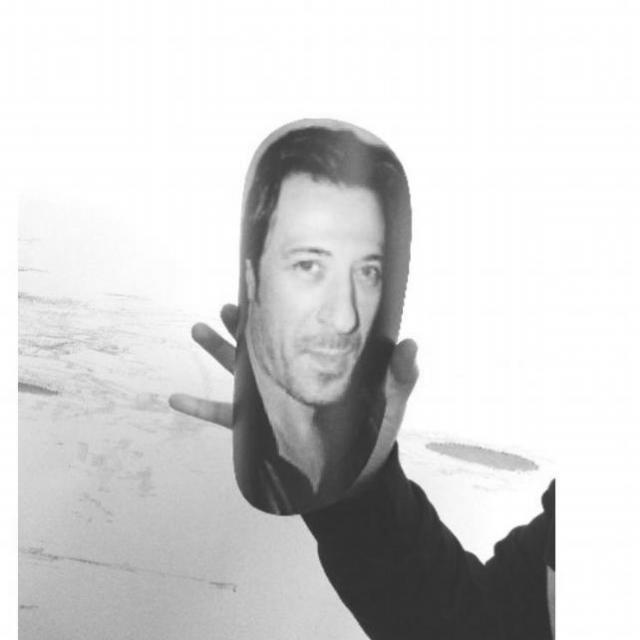fake: (210, 100, 432, 521)
